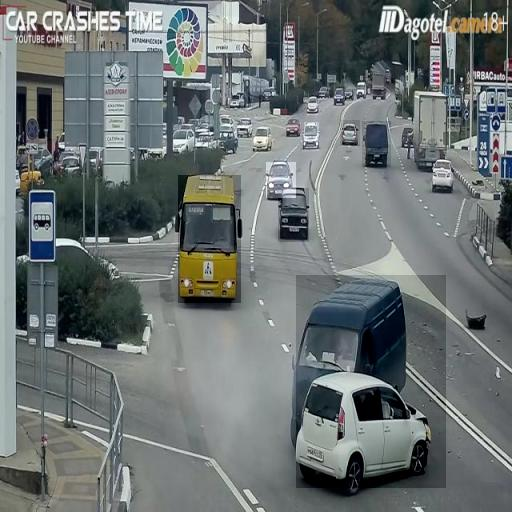小汽车: (178, 175, 241, 303), (413, 92, 446, 161), (278, 188, 309, 242), (362, 121, 391, 167), (266, 162, 296, 198), (434, 164, 458, 196), (340, 120, 360, 146), (254, 124, 272, 152), (304, 122, 319, 150)
小汽车撞小汽车: (296, 275, 446, 488)
